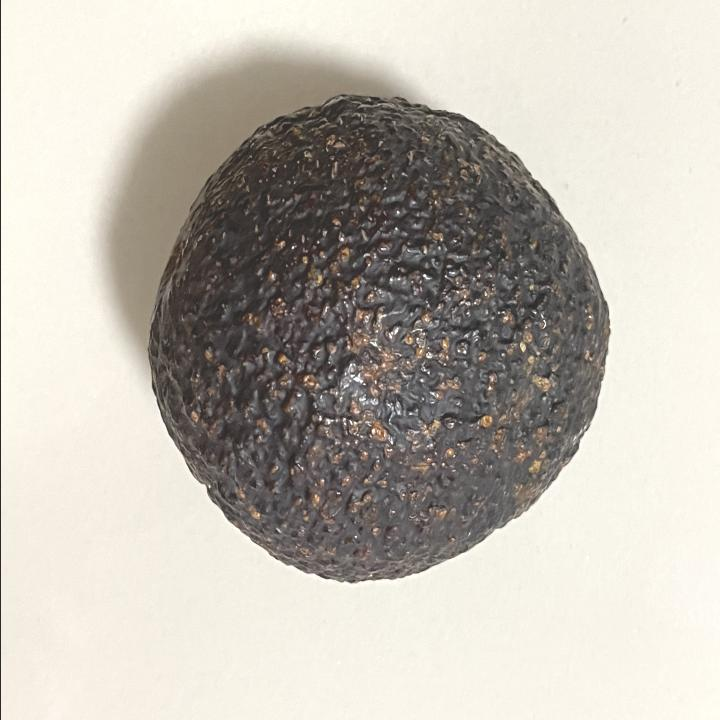Level3: (140, 86, 622, 600)
